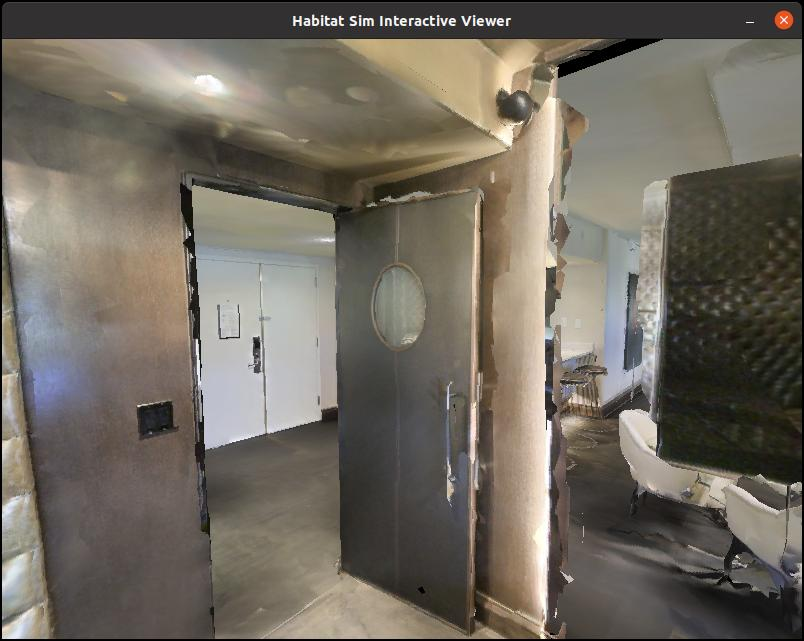door: (337, 188, 484, 635)
door-frame: (184, 165, 359, 641)
